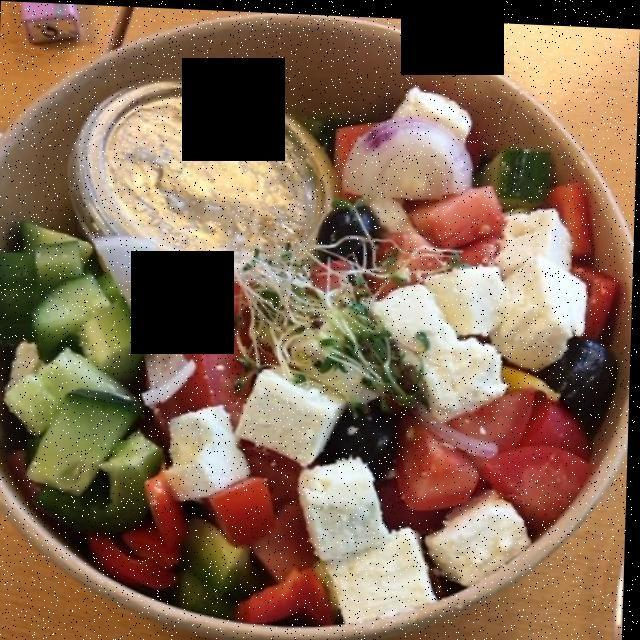salad: (0, 91, 618, 624)
